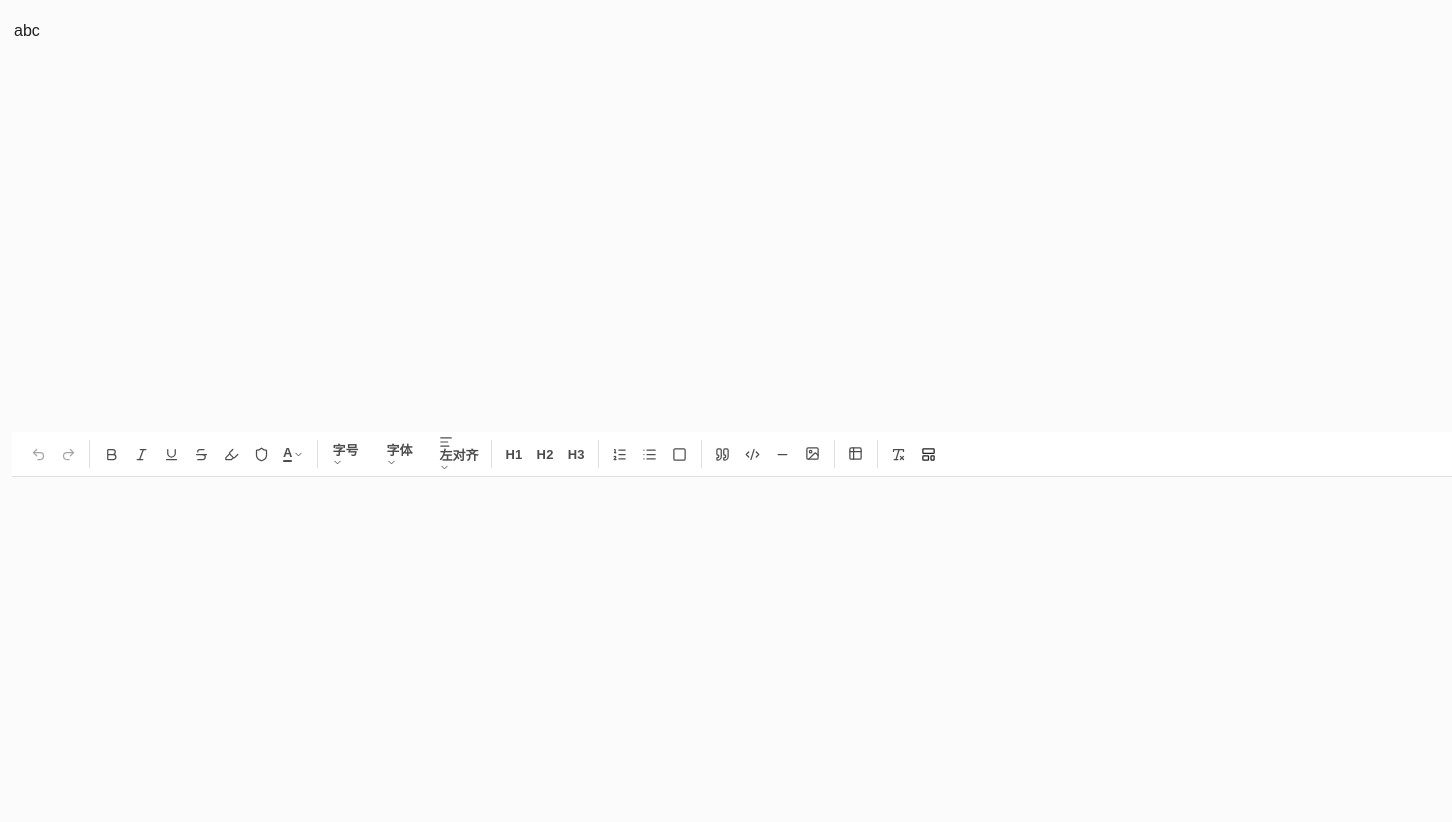
it: EditorToolbar 触发器显示当前值（shadcn-tiptap 结构） › 对齐下拉：触发器初始显示「左对齐」，点菜单「居中对齐」后触发器文案变「居中对齐」
打开弹层：当前项「✓ 左对齐」（pop-item button，与其他弹层统一互斥模式）→ 点居中
What coordinates should you click on to do the following:
click the button "左对齐"
I would click on:
 (459, 454)
Its box is top-left (433, 440), bottom-right (484, 468).
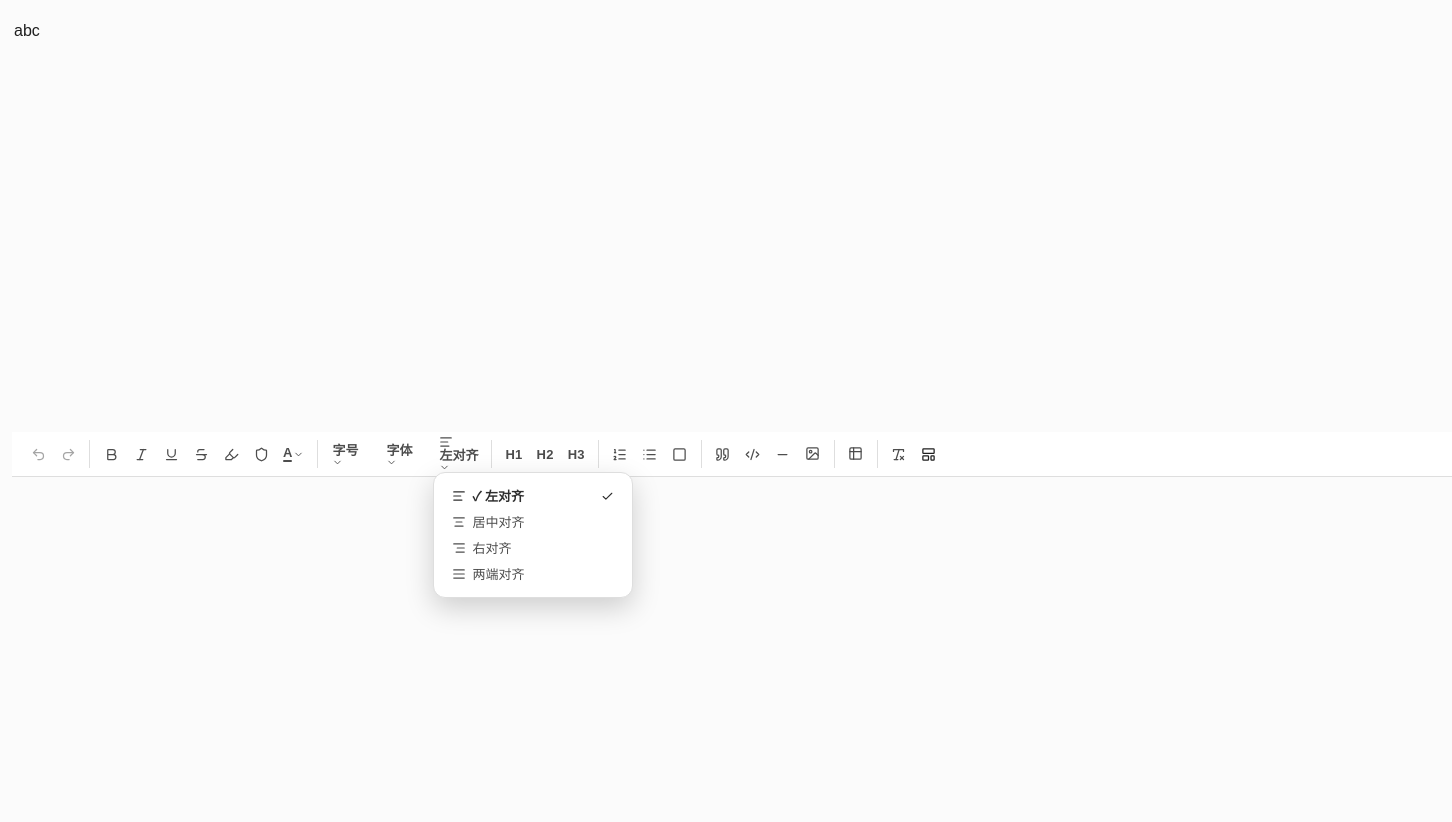
Check: the button "✓ 左对齐" is shown, box top-left (444, 483), bottom-right (622, 509)
What coordinates should you click on to do the following:
click the button "居中对齐"
I would click on:
 (533, 522)
Its box is top-left (444, 509), bottom-right (622, 535).
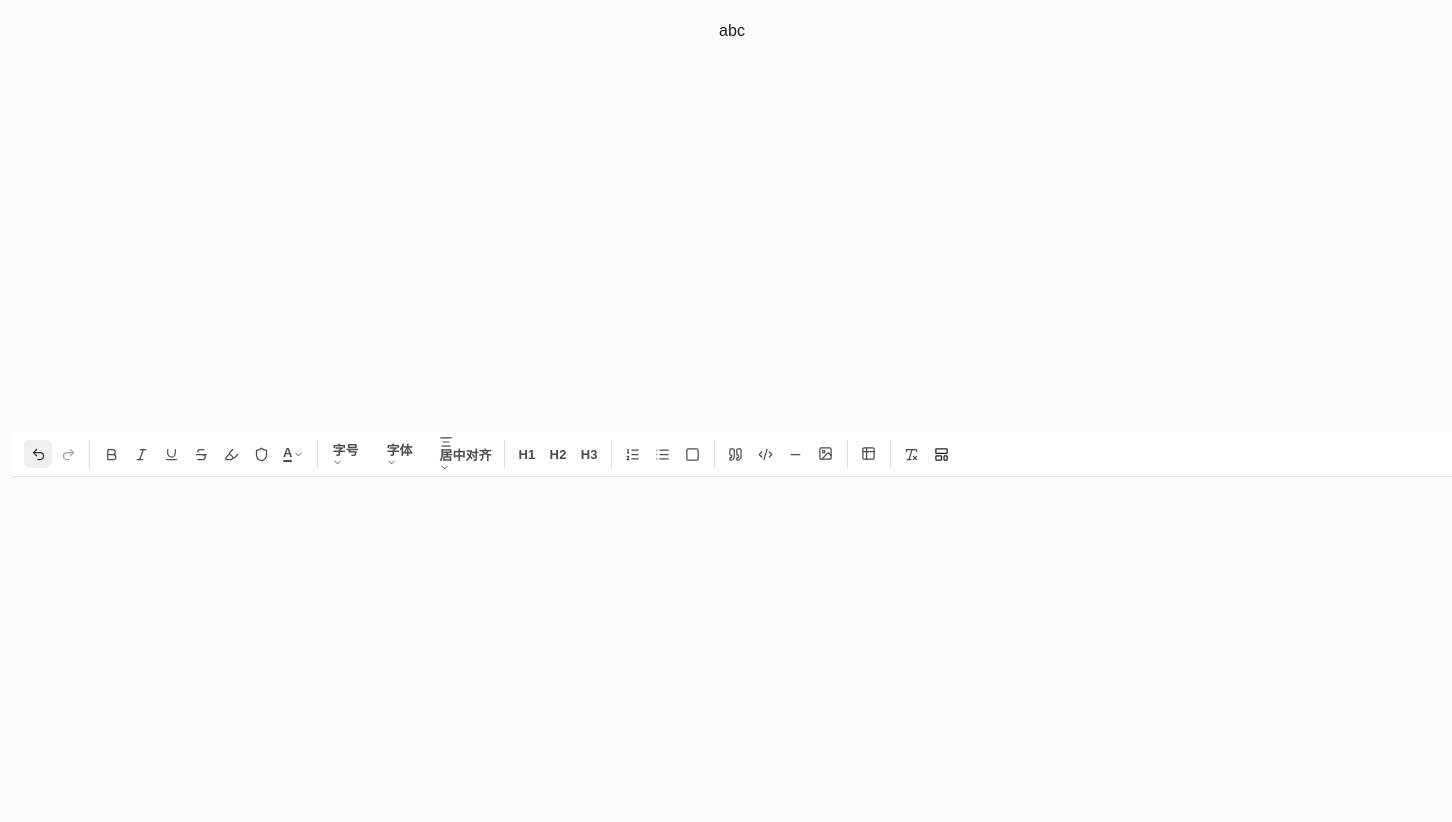
Check: the button "居中对齐" is shown
Check: the button "左对齐" is gone
重开弹层：当前项已换成「居中对齐」（✓ 前缀跟随）
What coordinates should you click on to do the following:
click the button "居中对齐"
I would click on:
 (465, 454)
Its box is top-left (433, 440), bottom-right (497, 468).
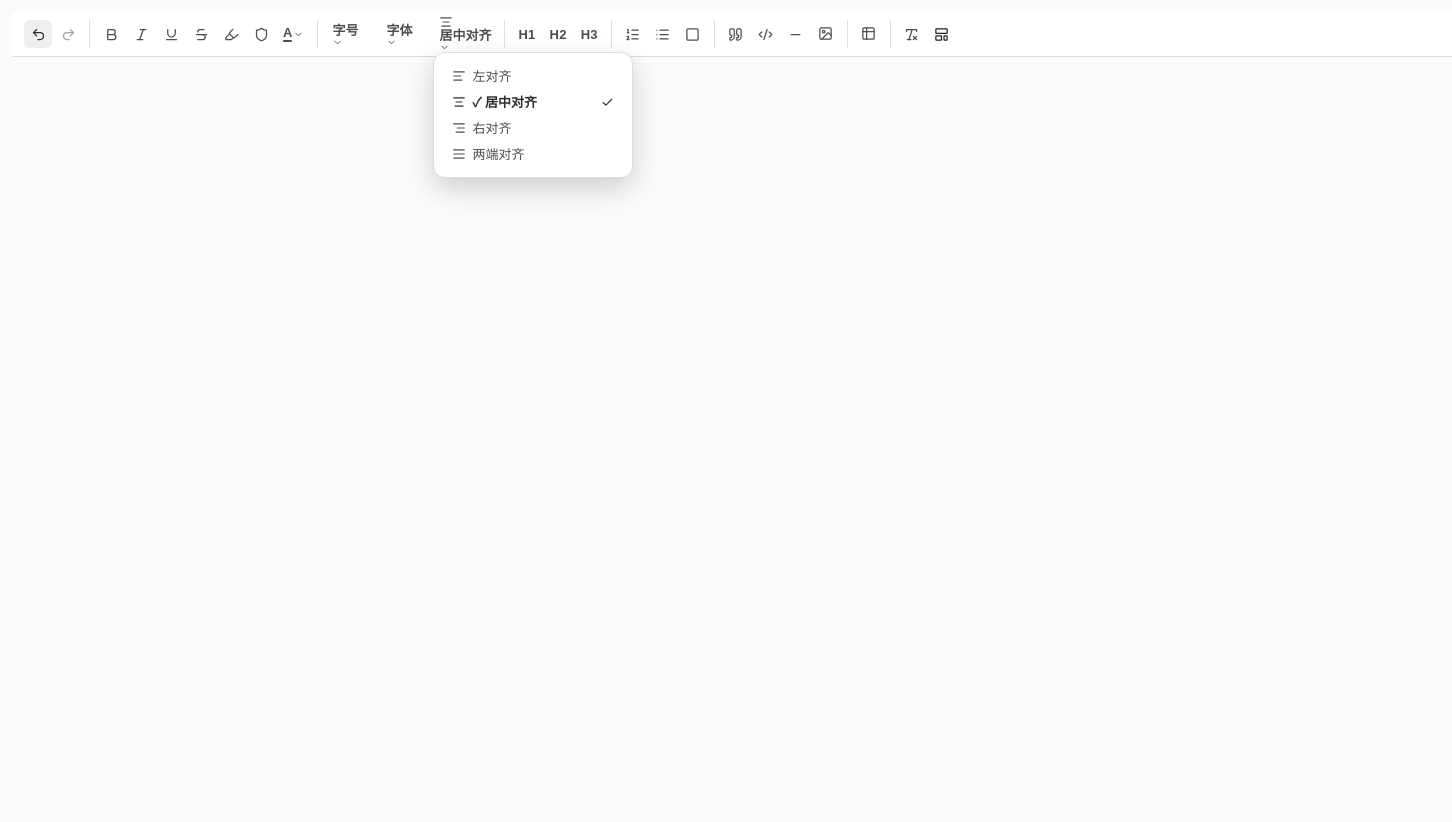
Check: the button "✓ 居中对齐" is shown, box top-left (444, 89), bottom-right (622, 115)
